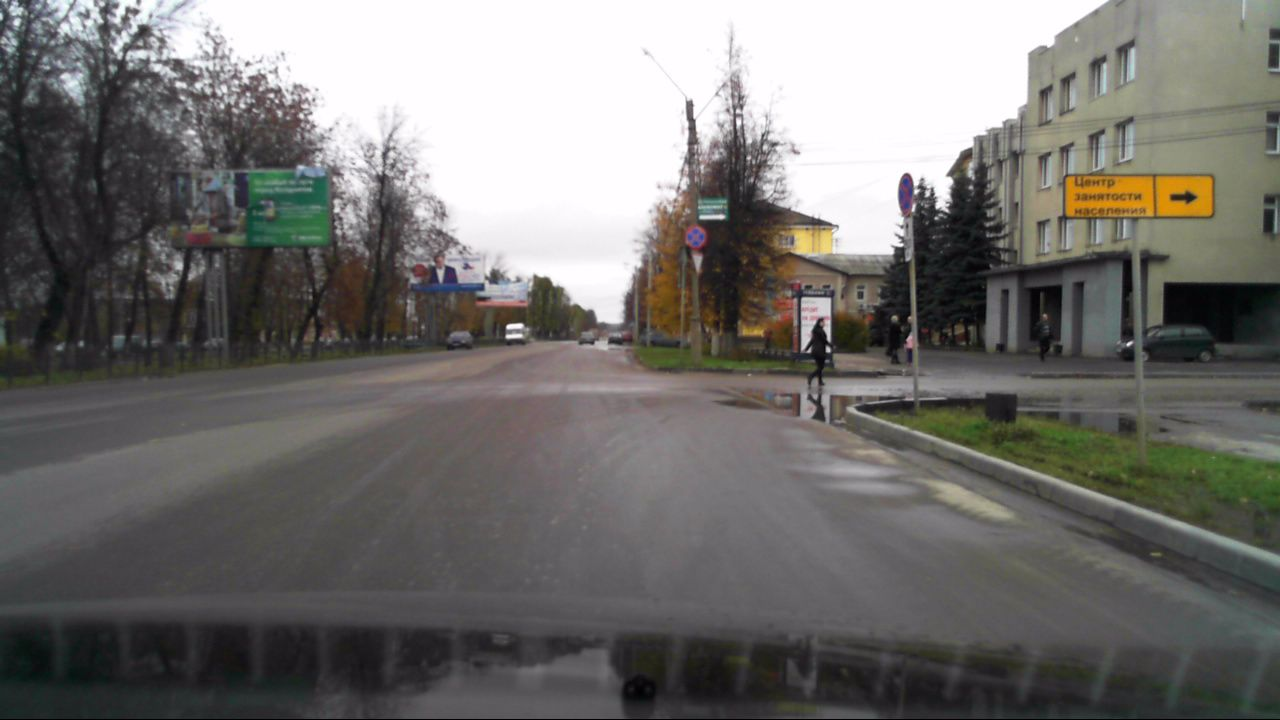No Parking: (899, 173, 915, 214)
